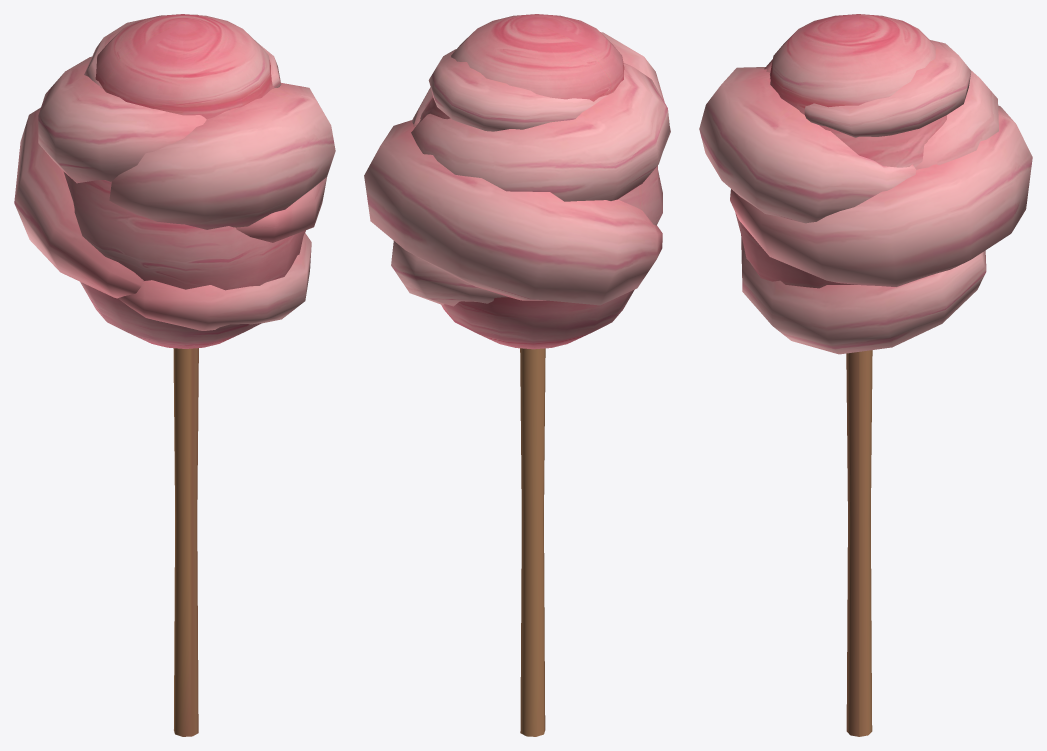
Rendered from SE_CottonCandyTree_01.fbx.
The picture shows the model from 3 angles, left to right: view 1: azimuth 30°, elevation 25°; view 2: azimuth 150°, elevation 25°; view 3: azimuth 270°, elevation 25°; orthographic projection.
Parts seen in each view (by area): view 1: SE_CottonCandyTree_01; view 2: SE_CottonCandyTree_01; view 3: SE_CottonCandyTree_01.
Part boxes in pixels (x1,y1,x2,y2): SE_CottonCandyTree_01: (14,14,335,736); SE_CottonCandyTree_01: (364,14,670,736); SE_CottonCandyTree_01: (699,14,1032,736).
Size of the model in its own units: 1.82 by 4.59 by 1.96.
